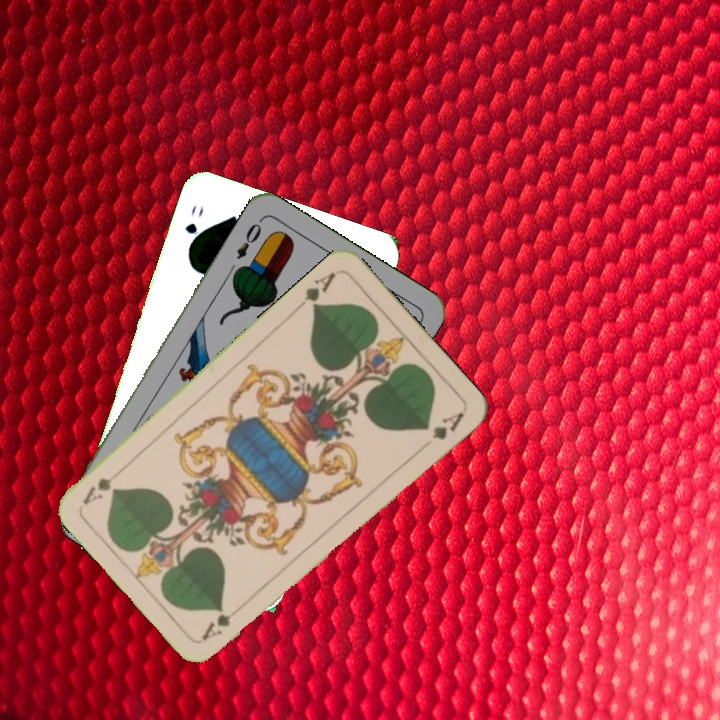EO: (232, 215, 265, 262)
GA: (197, 599, 247, 643), (292, 267, 339, 313)
GO: (181, 201, 206, 254)
